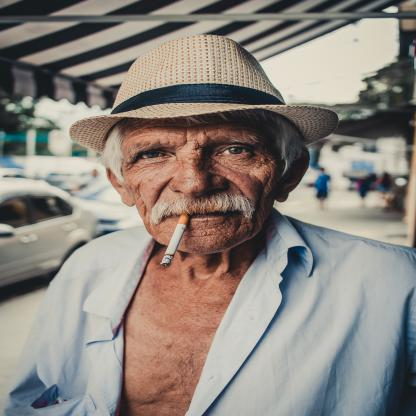Eye: (125, 149, 175, 168), (214, 144, 261, 159)
Mouth: (159, 210, 246, 224)
Nose: (168, 152, 227, 196)
